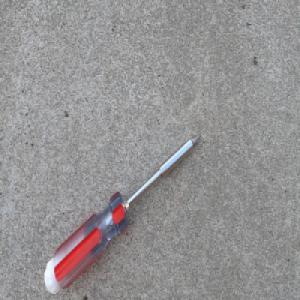Screwdriver: (42, 131, 201, 297)
